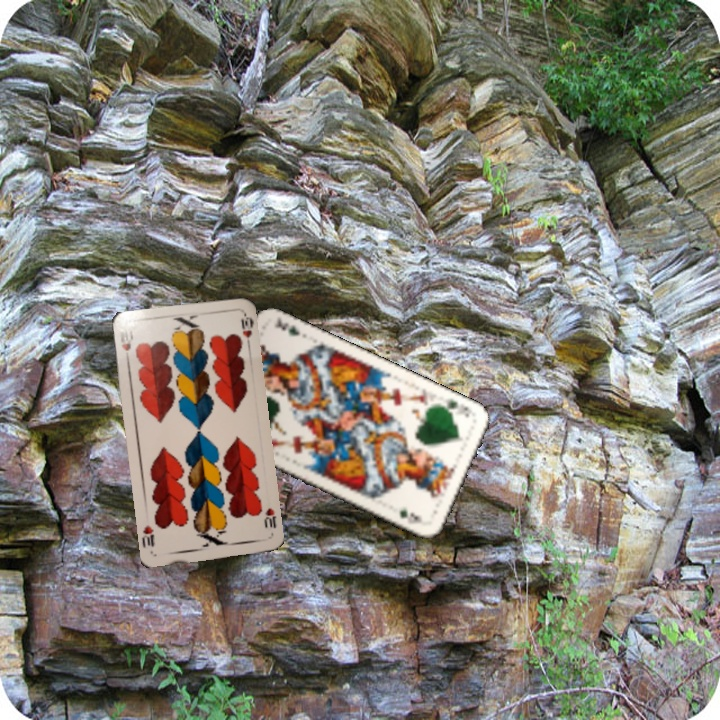GK: (438, 396, 474, 420)
H10: (114, 324, 135, 365), (260, 504, 279, 531)
